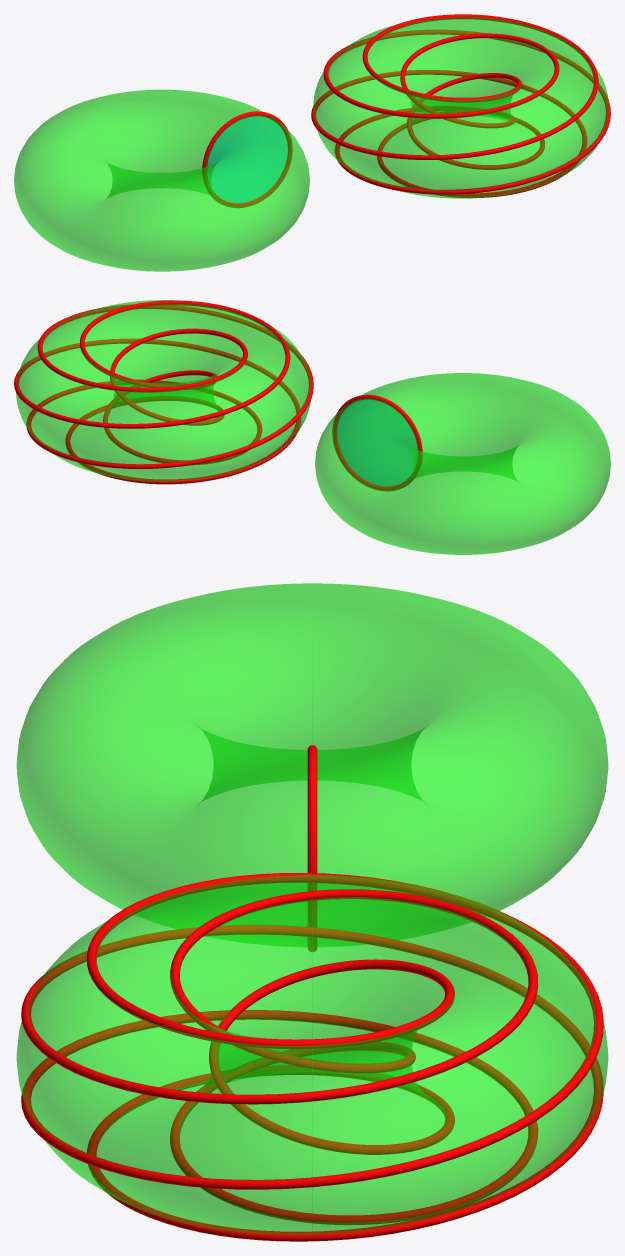
3 views of the same model, one above another, from view 1: azimuth 30°, elevation 25°; view 2: azimuth 150°, elevation 25°; view 3: azimuth 270°, elevation 25° (orthographic). The views are drawn at different scales.
Visible parts, largest first — view 1: T1, Reference Torus, TorusKnot_7_2, meridional disk, meridional_arc; view 2: T1, Reference Torus, TorusKnot_7_2, meridional disk, meridional_arc; view 3: T1, Reference Torus, TorusKnot_7_2, meridional_arc.
Part boxes in pixels (x1,y1,x2,y2): T1: [14, 89, 309, 271]; Reference Torus: [313, 17, 608, 198]; TorusKnot_7_2: [311, 14, 610, 197]; meridional disk: [207, 116, 287, 202]; meridional_arc: [202, 111, 292, 207]; T1: [315, 373, 610, 554]; Reference Torus: [16, 300, 310, 481]; TorusKnot_7_2: [14, 300, 313, 484]; meridional disk: [337, 400, 417, 486]; meridional_arc: [332, 394, 422, 491]; T1: [16, 583, 608, 946]; Reference Torus: [16, 875, 608, 1234]; TorusKnot_7_2: [21, 873, 603, 1241]; meridional_arc: [307, 745, 317, 951].
Size of the model in its own units: 6.52 by 1.05 by 3.
